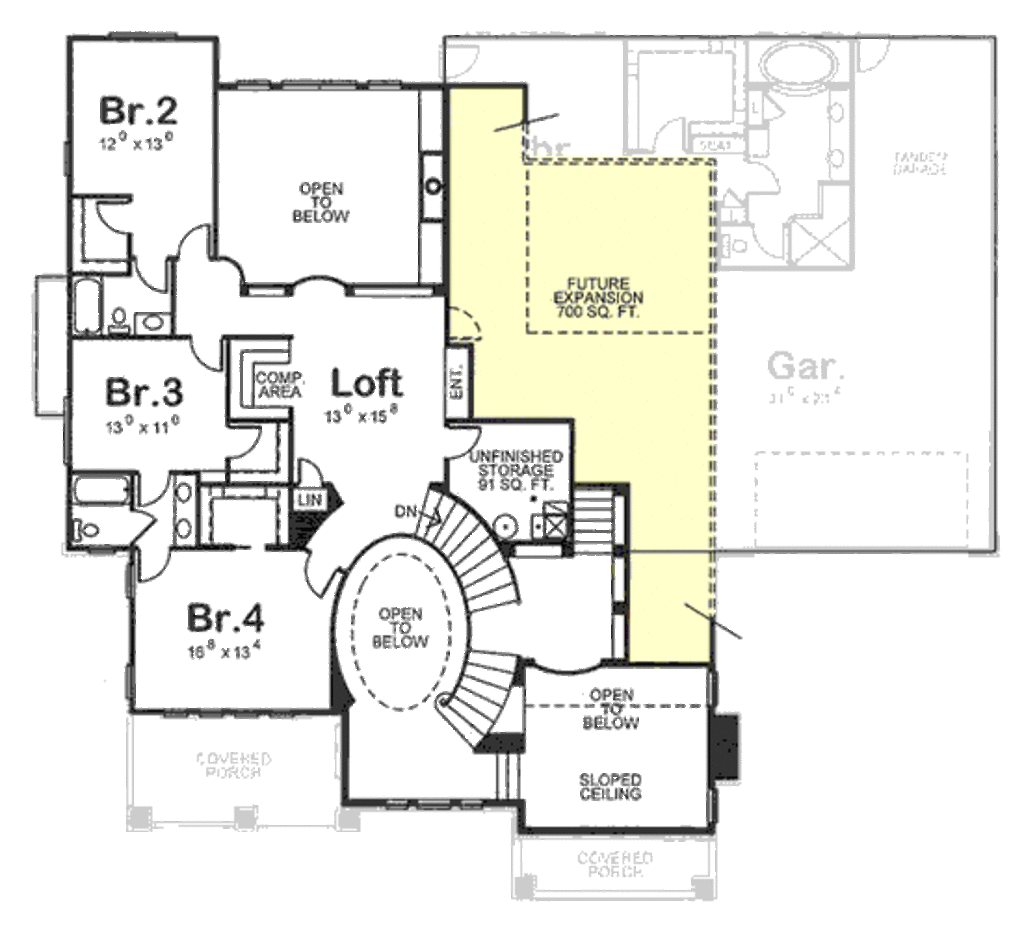door: (432, 37, 487, 83), (165, 219, 217, 264), (93, 195, 146, 239), (217, 417, 267, 462), (740, 149, 783, 197), (444, 419, 487, 465), (129, 250, 172, 295), (645, 111, 686, 157), (299, 551, 338, 599), (751, 217, 792, 261), (183, 336, 223, 376), (855, 32, 889, 76), (122, 506, 160, 545), (132, 551, 174, 585), (135, 468, 168, 508), (289, 453, 322, 489)
large_sink: (717, 226, 752, 270), (106, 305, 137, 337), (70, 513, 99, 547)
small_sink: (826, 90, 856, 179), (174, 475, 201, 546), (138, 310, 174, 333)
stairs: (401, 467, 524, 751)
tub: (71, 270, 103, 337), (72, 469, 135, 499)
window: (378, 792, 484, 815)
